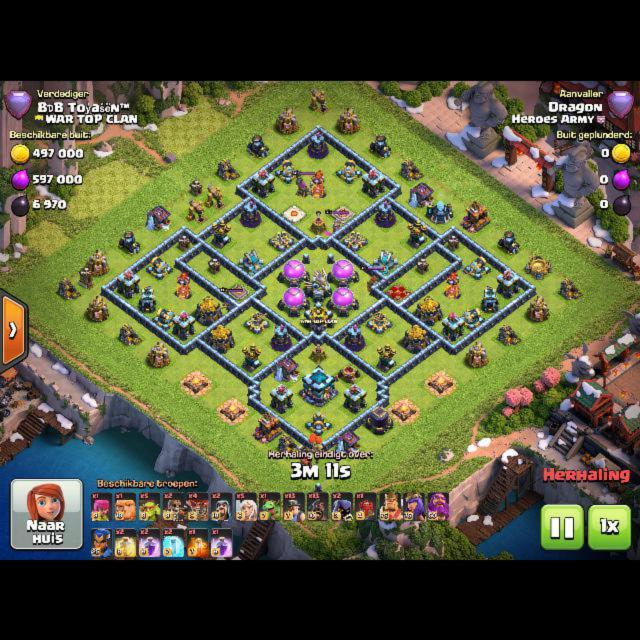AD: (407, 218, 428, 248), (211, 218, 231, 249), (376, 342, 396, 372), (241, 342, 261, 372)
AirSweeper: (309, 210, 328, 235), (309, 343, 328, 364)
BombTower: (481, 285, 498, 312), (139, 285, 156, 312)
Canon: (274, 158, 300, 183), (305, 411, 332, 435), (336, 158, 363, 182), (464, 255, 491, 279), (146, 255, 172, 279), (458, 307, 484, 330), (152, 307, 177, 330)
ClanCastle: (304, 300, 333, 334)
Eagle: (303, 267, 331, 302)
Inferno: (444, 270, 461, 298), (175, 270, 192, 298), (310, 169, 326, 197)
KingPad: (331, 205, 354, 222)
Mortar: (246, 134, 269, 159), (369, 133, 392, 157), (118, 230, 141, 254), (497, 230, 519, 254)
QueenPad: (386, 282, 411, 300)
RcPad: (228, 284, 248, 299)
Scattershot: (239, 248, 264, 274), (373, 249, 398, 274)
TH13: (302, 365, 335, 406)
WardenPad: (283, 205, 305, 221)
WizzTower: (272, 324, 291, 351), (345, 324, 364, 351), (309, 131, 328, 158), (375, 200, 394, 227), (241, 200, 260, 227)
Xbow: (244, 311, 271, 334), (366, 311, 393, 334), (268, 230, 295, 251), (341, 230, 368, 251)
